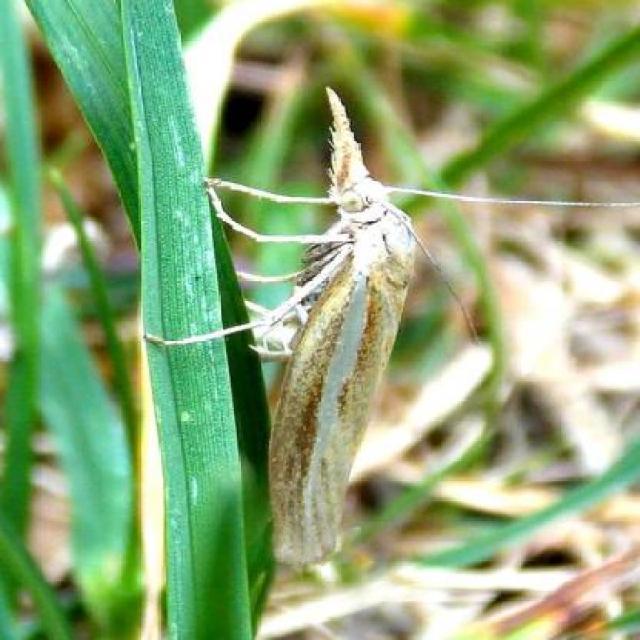stem-borer: (142, 79, 638, 569)
